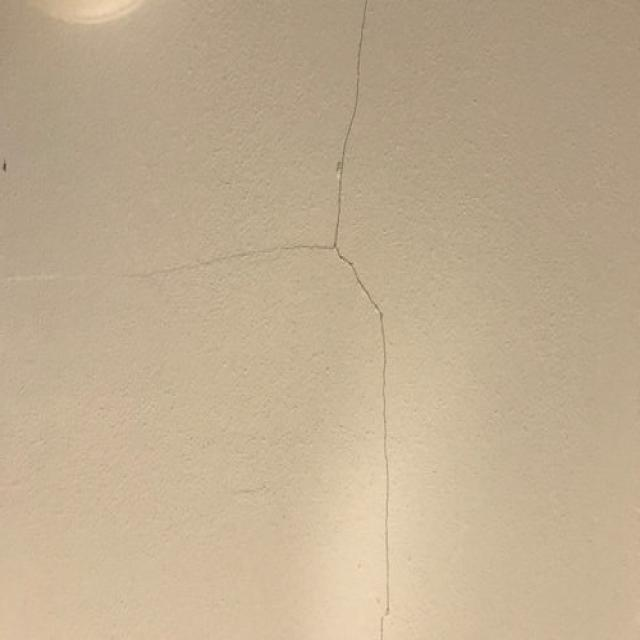Crack: (335, 246, 391, 640), (0, 242, 334, 283), (334, 0, 370, 247)
